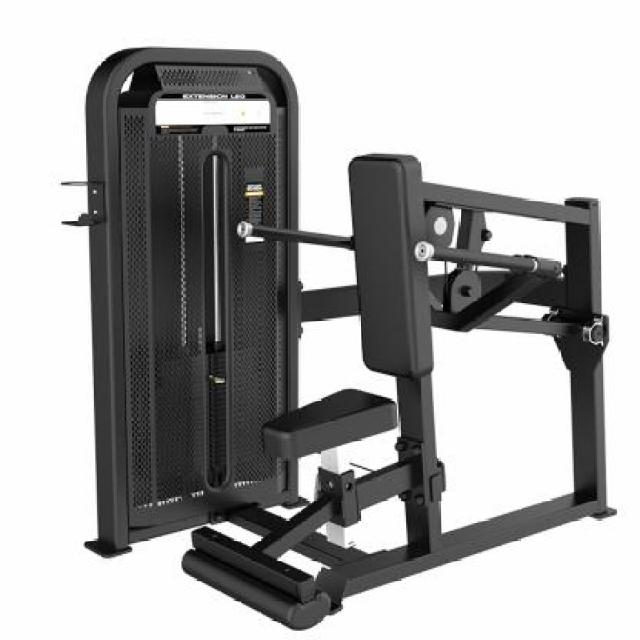seated dip machine: (88, 46, 624, 634)
